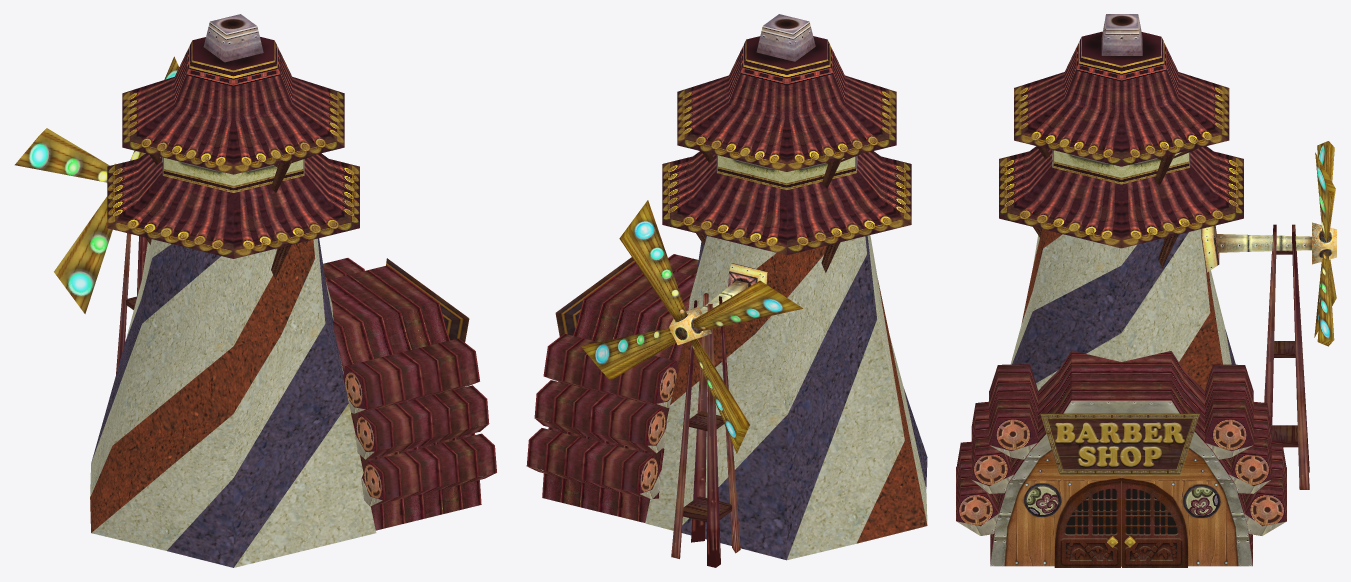
The picture shows the model from 3 angles, left to right: view 1: azimuth 30°, elevation 25°; view 2: azimuth 150°, elevation 25°; view 3: azimuth 270°, elevation 25°; orthographic projection. The views are drawn at different scales.
Visible parts, largest first — view 1: objpolySurface50; view 2: objpolySurface50; view 3: objpolySurface50.
Part boxes in pixels (box(x1,y1,x2,y2)): objpolySurface50: box(15, 14, 496, 567); objpolySurface50: box(526, 14, 927, 567); objpolySurface50: box(956, 14, 1336, 567).
Size of the model in its own units: 445 by 600 by 450.
Materials: 1 (1 with a texture image).
